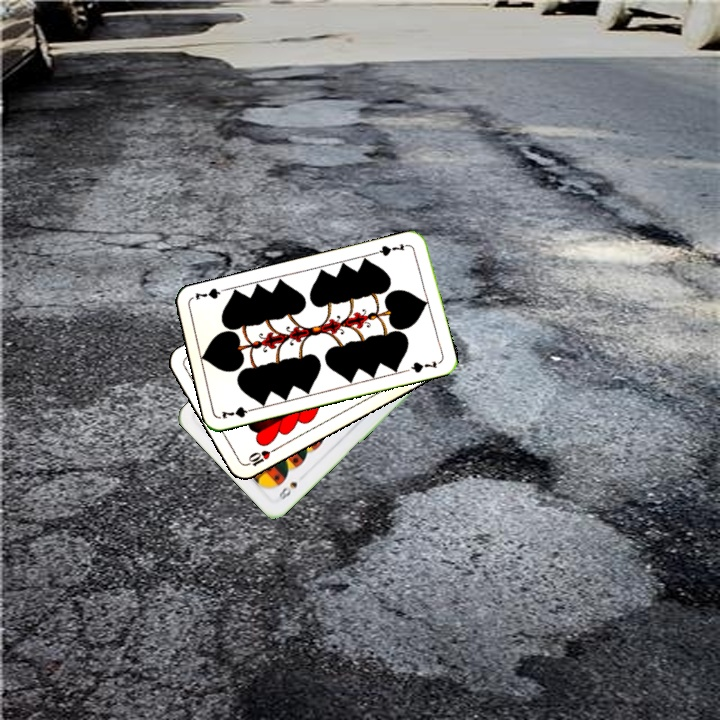G7: (371, 239, 412, 258), (218, 402, 258, 421)
H10: (241, 444, 279, 469)
S8: (275, 477, 300, 503)
